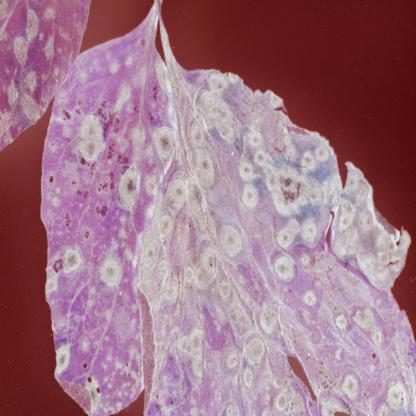tomato septoria leaf spot: (36, 19, 416, 415)
